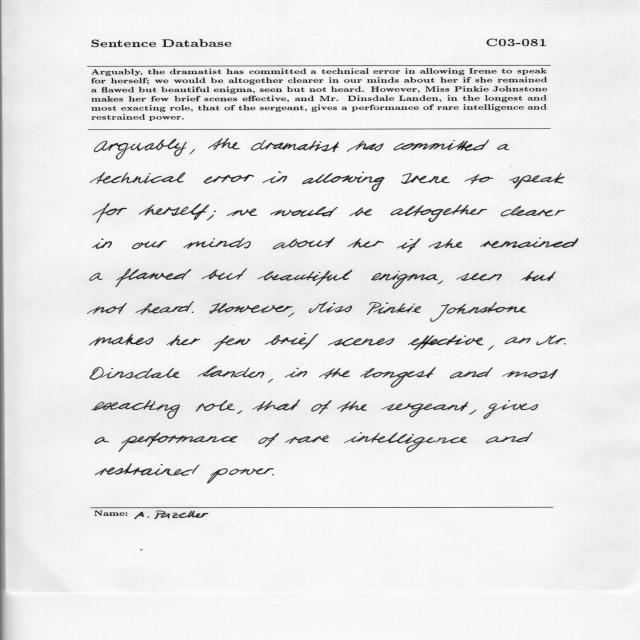word: (344, 432, 467, 452), (118, 432, 238, 452), (94, 139, 187, 160), (430, 302, 526, 322), (92, 400, 180, 419), (390, 205, 487, 222), (258, 269, 352, 286), (360, 367, 436, 388), (303, 172, 385, 191), (381, 402, 468, 418), (116, 269, 192, 287), (95, 463, 200, 476), (371, 270, 438, 289), (139, 203, 209, 220), (90, 367, 179, 380), (91, 172, 186, 184), (408, 335, 483, 350), (481, 238, 579, 249), (251, 140, 339, 152), (207, 468, 273, 484), (394, 140, 489, 151), (484, 400, 538, 419), (265, 333, 319, 350), (210, 303, 293, 314), (510, 173, 565, 189), (198, 366, 265, 378), (89, 334, 154, 346), (135, 302, 194, 315), (270, 206, 338, 217), (183, 238, 251, 249), (273, 238, 335, 250), (501, 206, 565, 217), (367, 302, 421, 315), (93, 203, 127, 223), (213, 335, 251, 351), (502, 369, 558, 379), (202, 268, 247, 280), (401, 173, 450, 184), (328, 338, 394, 346), (252, 400, 300, 411), (486, 432, 533, 443), (450, 367, 493, 379), (309, 302, 352, 313), (196, 400, 235, 412), (203, 175, 254, 184), (88, 303, 127, 314), (347, 141, 384, 152), (285, 435, 329, 444), (208, 138, 240, 150), (429, 238, 463, 249), (167, 335, 201, 346), (456, 273, 502, 281), (348, 238, 384, 248), (397, 238, 421, 253), (319, 368, 350, 379), (522, 271, 556, 281), (337, 401, 367, 412), (536, 335, 566, 345), (311, 400, 332, 414), (258, 433, 279, 447), (465, 174, 494, 184), (132, 241, 167, 249), (263, 172, 288, 183), (227, 209, 257, 217), (92, 238, 112, 249), (285, 368, 307, 378), (349, 208, 372, 217), (504, 337, 531, 344), (90, 272, 103, 281), (206, 211, 216, 221), (95, 437, 109, 444), (497, 144, 509, 150), (469, 409, 476, 415), (288, 312, 295, 317), (189, 149, 195, 154), (488, 346, 494, 351), (438, 281, 443, 285), (268, 379, 273, 383), (237, 410, 242, 414), (192, 311, 194, 313), (272, 474, 274, 476)
